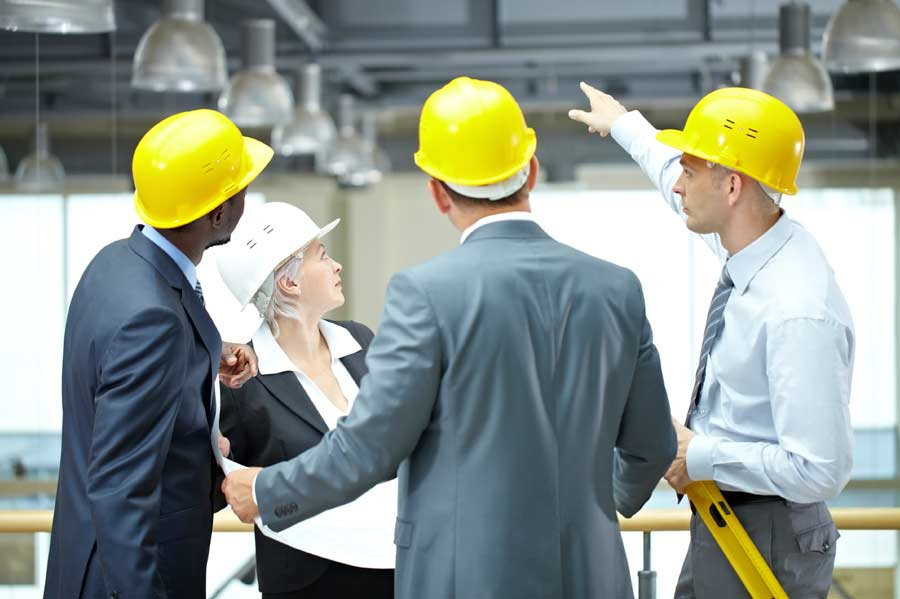epi: (331, 76, 677, 599), (575, 72, 851, 599), (54, 108, 274, 589), (221, 188, 406, 591)
